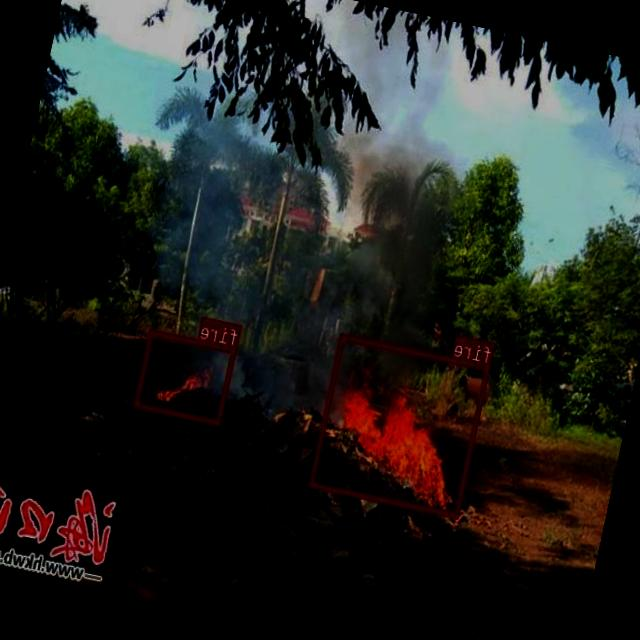fire: (309, 332, 492, 518), (134, 328, 238, 425)
